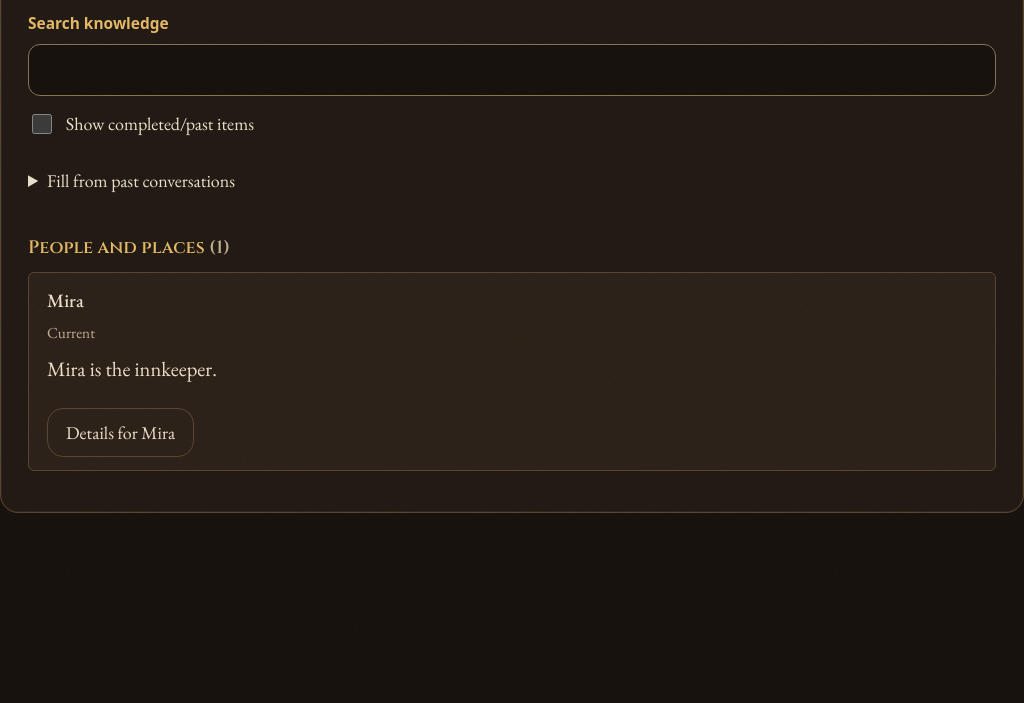
Test case: offers no accept control for unchanged or inconclusive findings and dismiss changes nothing
Step 1. Click the button "Details for Mira" → (121, 433), box [47,408,194,457]
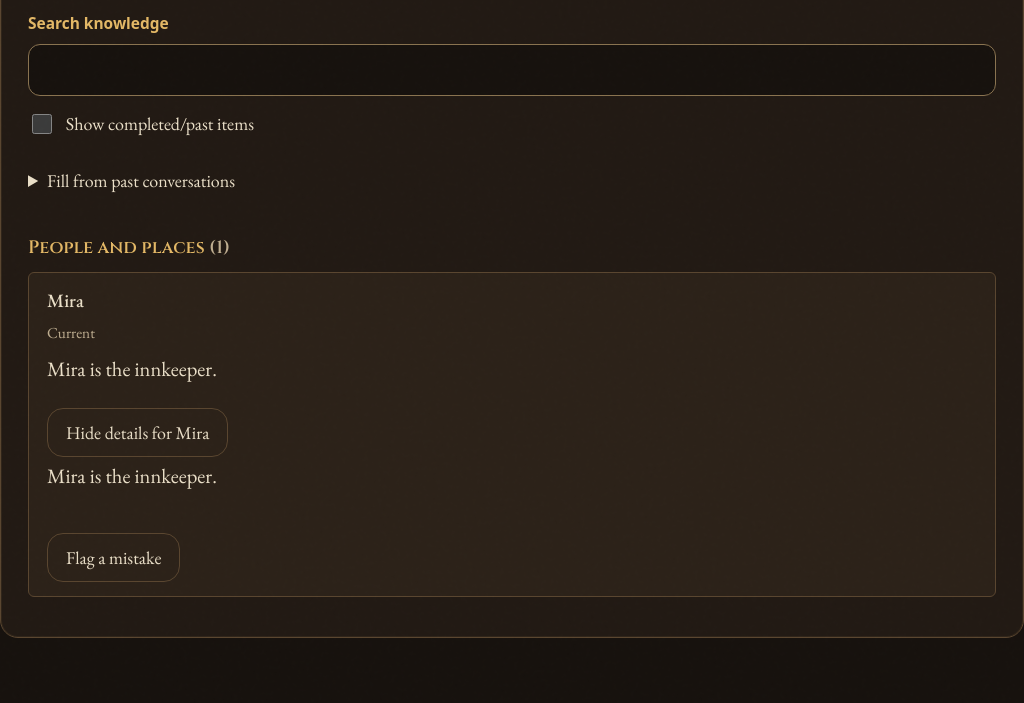
Step 2. Click the button "Flag a mistake" → (114, 558), box [47,534,180,582]
(page scrolled)
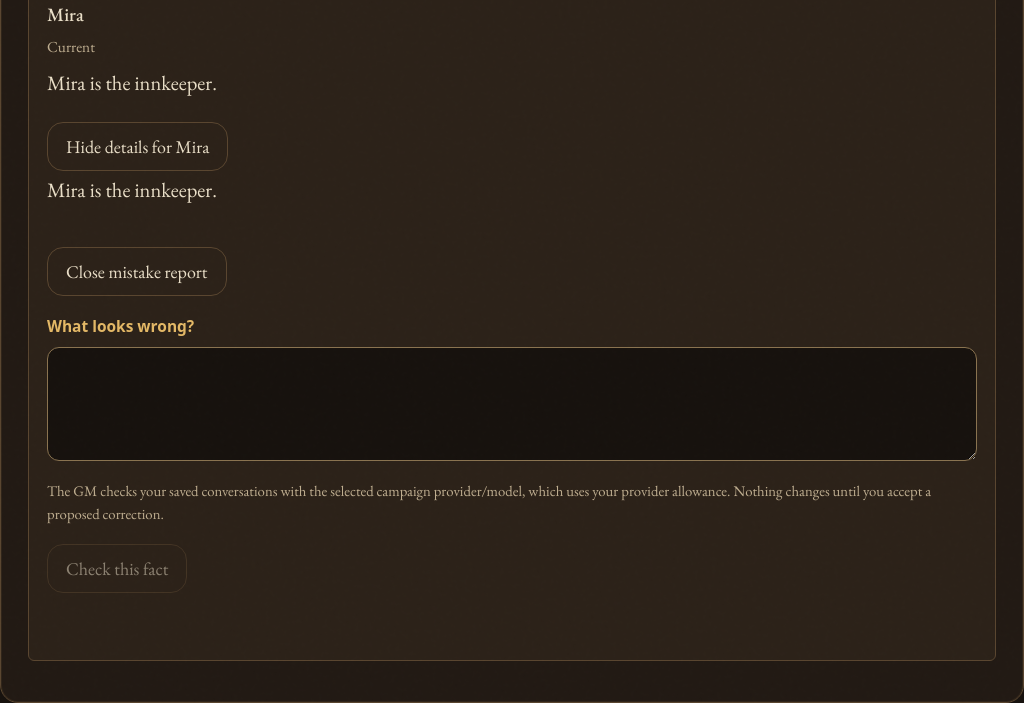
Step 3. Type "wrong employer" into the text box labelled "What looks wrong?" → (512, 404), box [47,347,977,461]
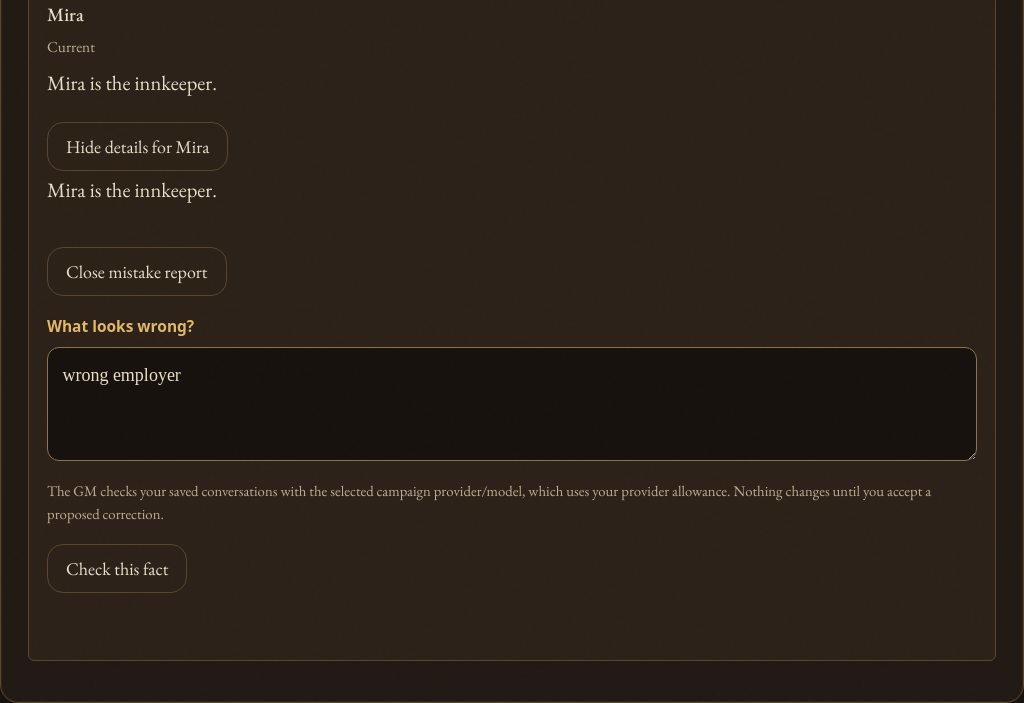
Step 4. Click the button "Check this fact" → (117, 568), box [47,544,187,593]
(page scrolled)
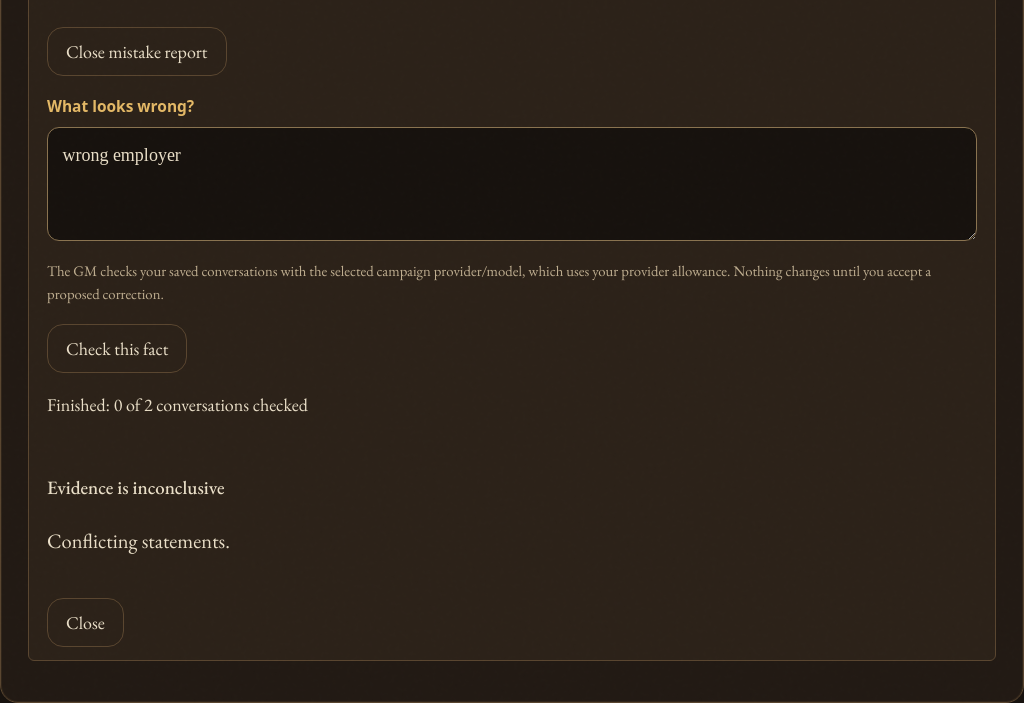
expect the text "Conflicting statements." is shown: met, box [47,527,230,554]
Step 5. Click the button "Close" → (85, 623), box [47,598,124,647]
(page scrolled)
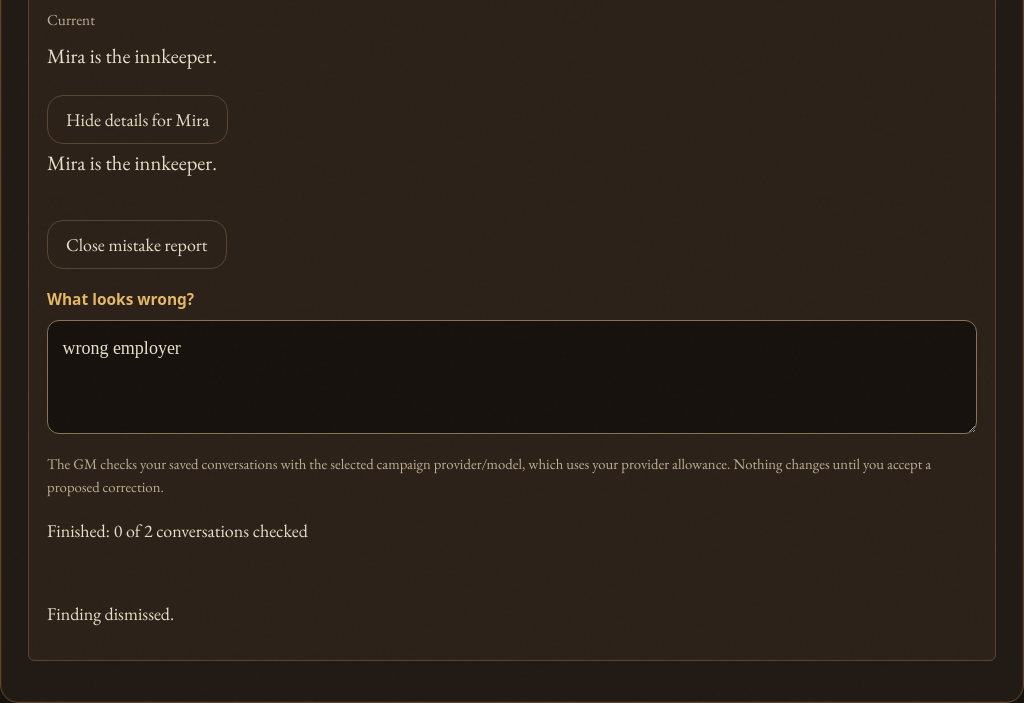
expect the text "Finding dismissed." is shown: met, box [47,602,174,625]
